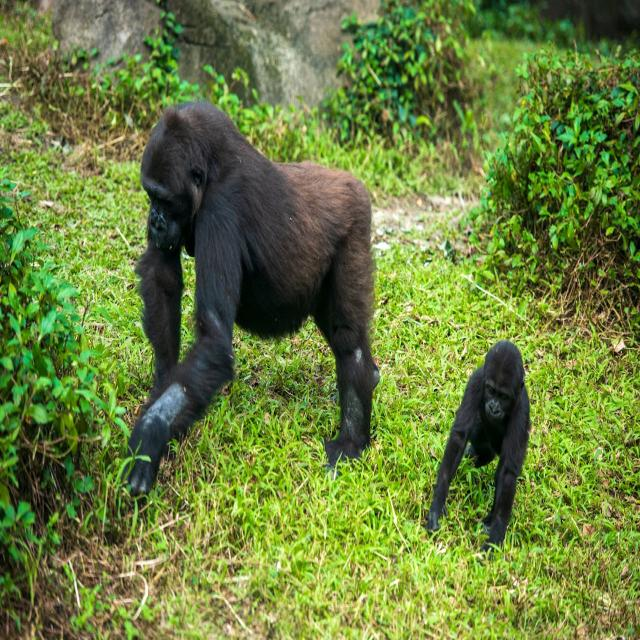Gorilla: (120, 101, 382, 498), (426, 341, 531, 550)
